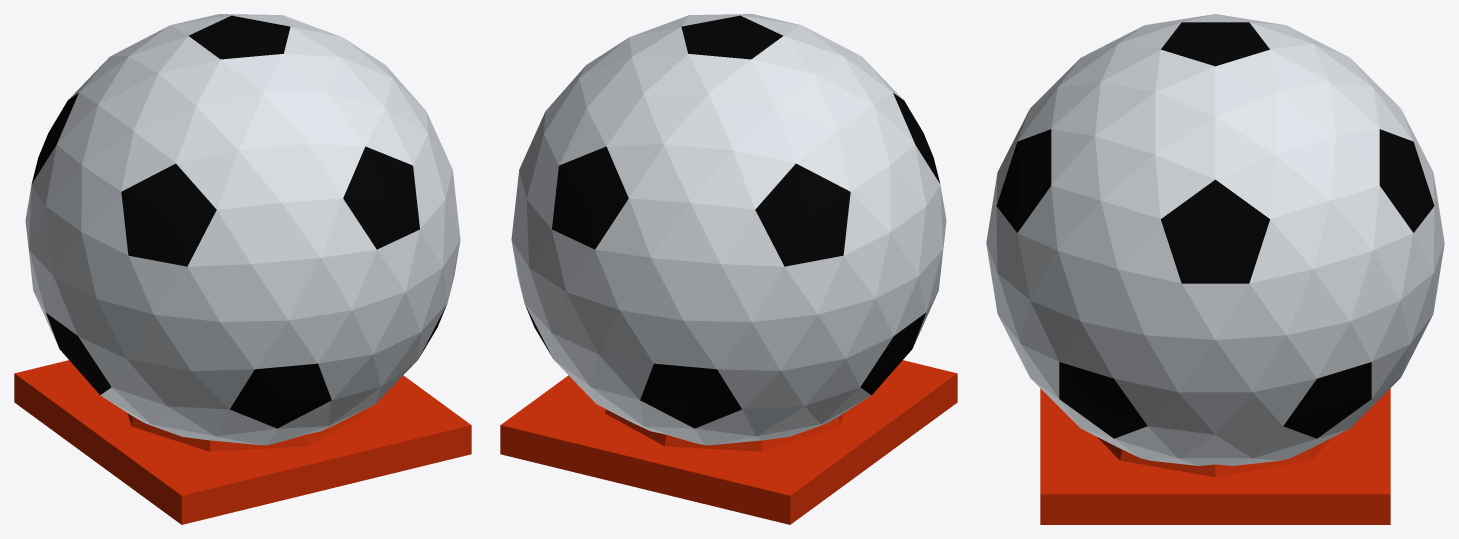
The model's file is sports_kit.glb.
3 views of the same model, side by side, from view 1: azimuth 30°, elevation 25°; view 2: azimuth 150°, elevation 25°; view 3: azimuth 270°, elevation 25° (orthographic). The views are drawn at different scales.
Parts seen in each view (by area): view 1: SM_SP_Football, SM_SP_Cone; view 2: SM_SP_Football, SM_SP_Cone; view 3: SM_SP_Football, SM_SP_Cone.
Boxes of the visible parts, x1,y1,x2,y2 form: SM_SP_Football: (25, 14, 460, 445); SM_SP_Cone: (14, 360, 471, 524); SM_SP_Football: (511, 14, 946, 445); SM_SP_Cone: (500, 360, 957, 524); SM_SP_Football: (986, 14, 1444, 465); SM_SP_Cone: (1040, 388, 1390, 524).
Bounding box in the file's own units: 0.34 × 0.34 × 0.34.
3 materials, 3 textured.
